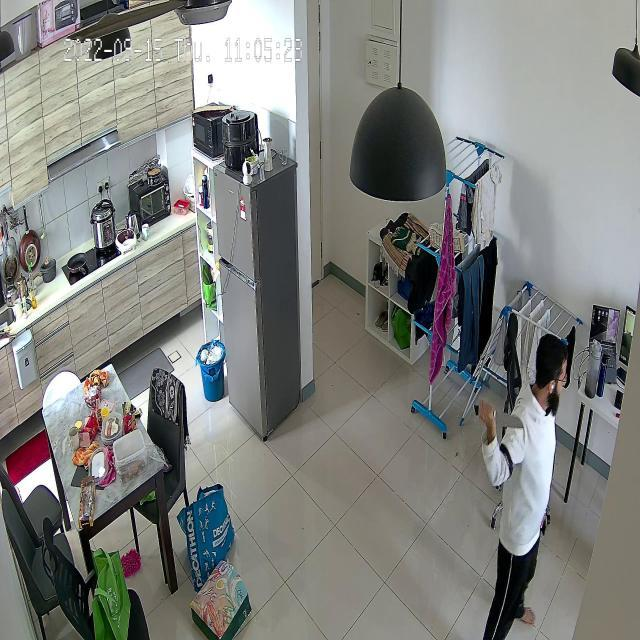Knife: (474, 388, 531, 438)
